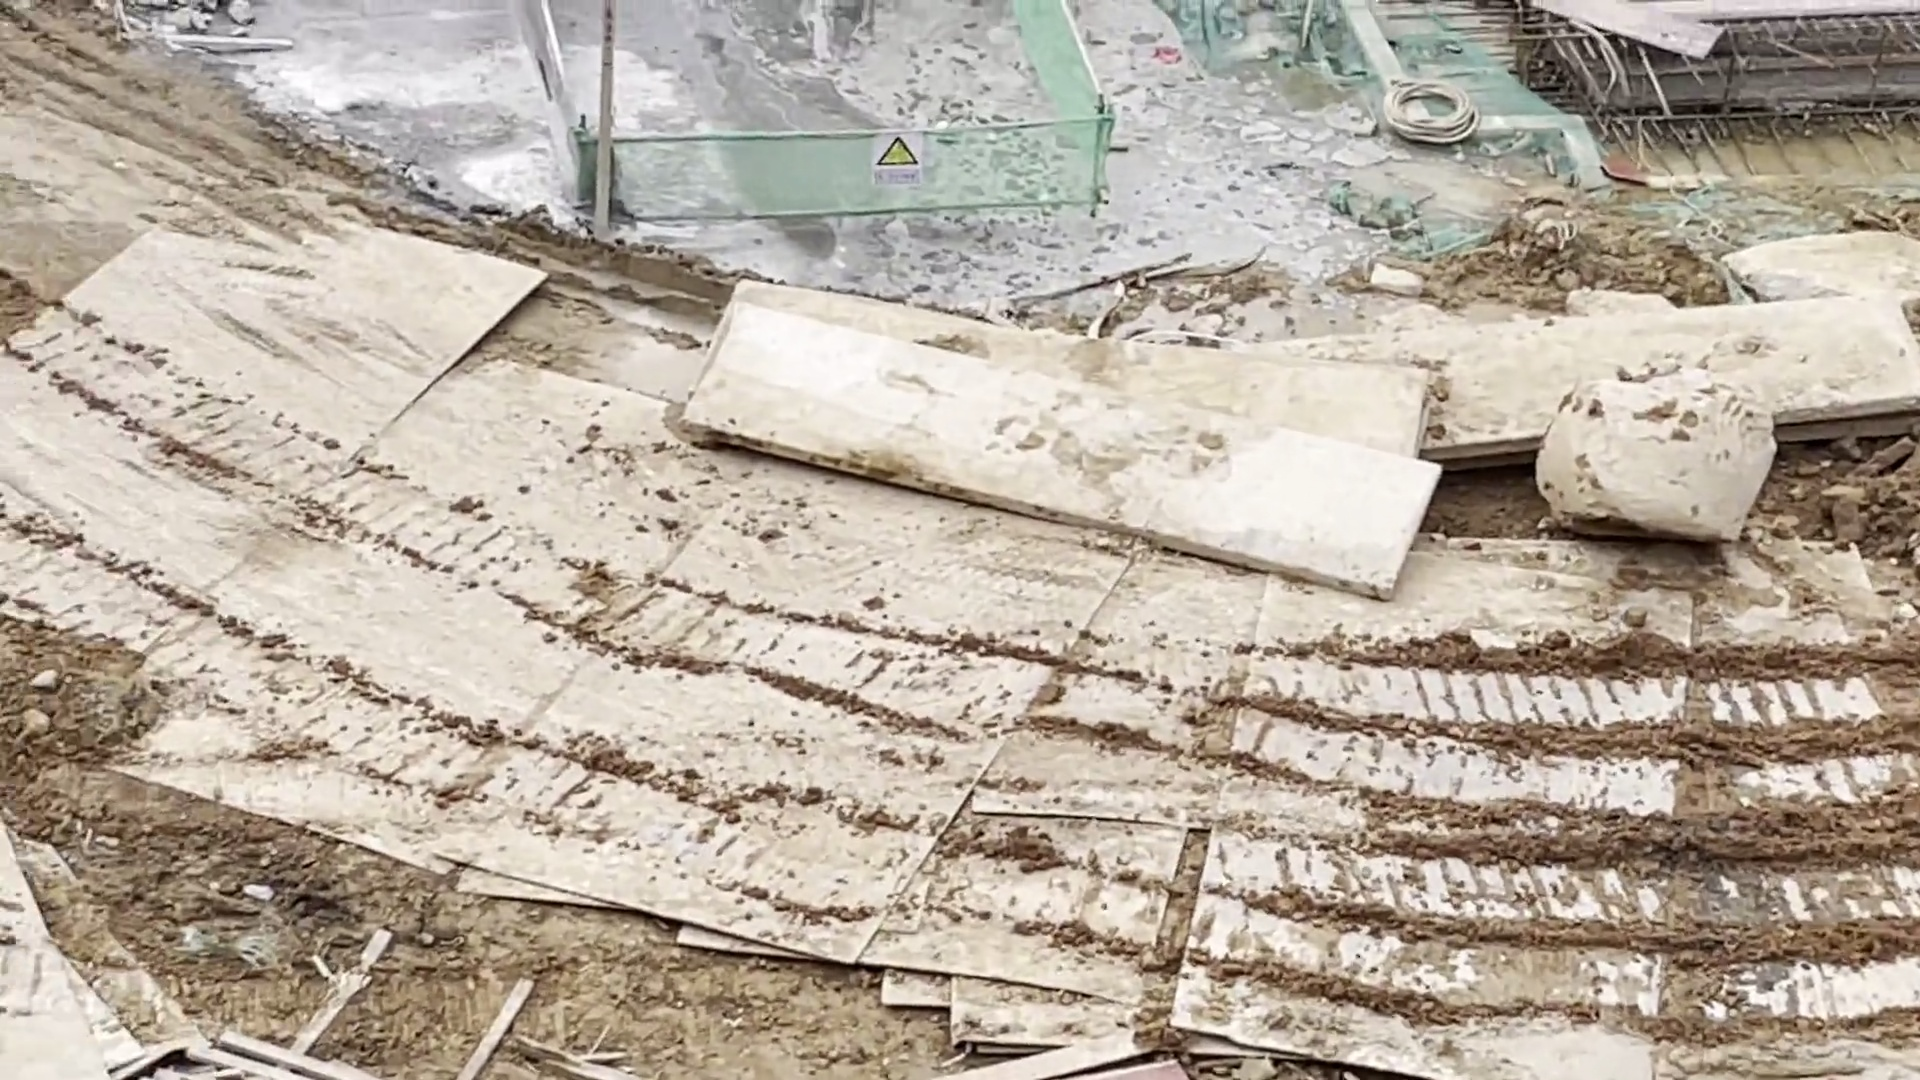slogan: (876, 128, 923, 187)
